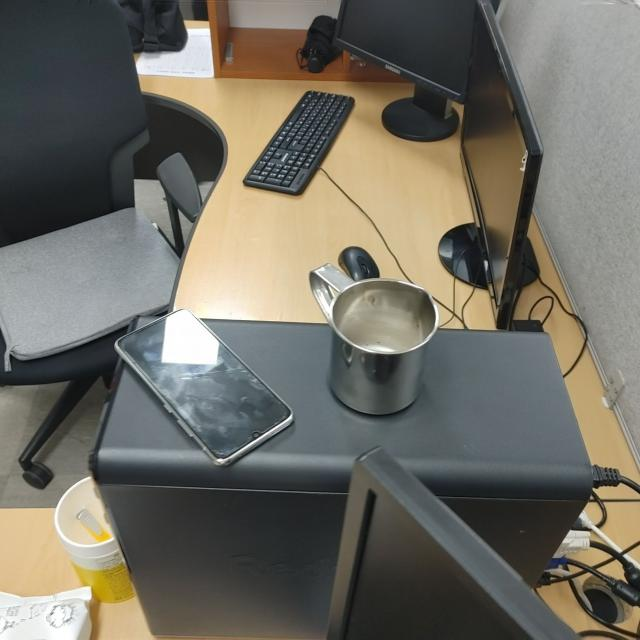cup: (307, 261, 439, 419)
phone: (112, 307, 294, 469)
